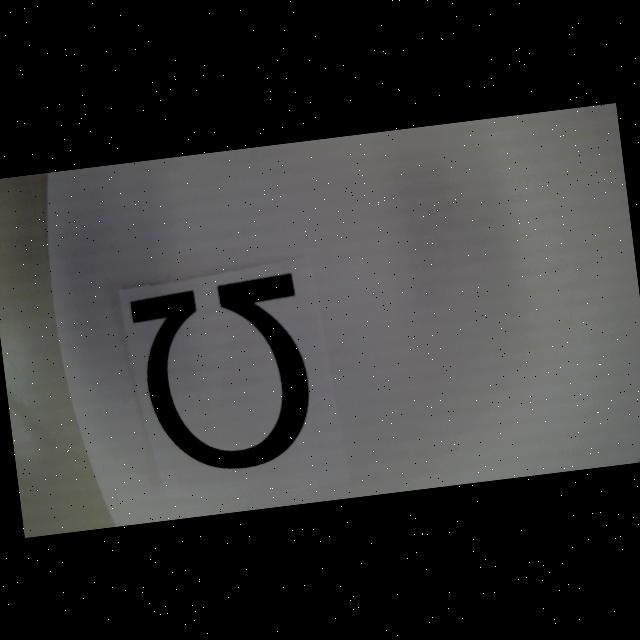OMEGA: (128, 271, 320, 479)
